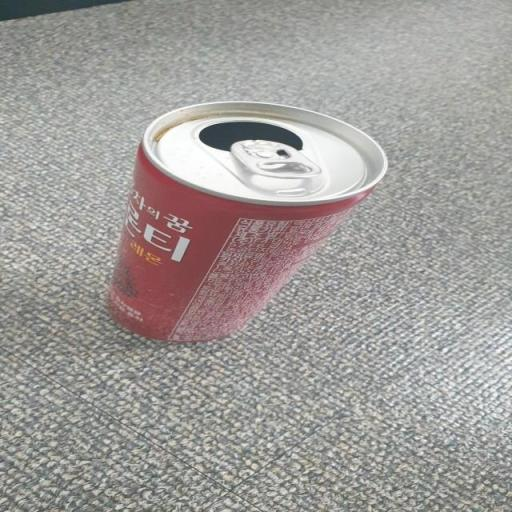metal: (100, 93, 396, 369)
